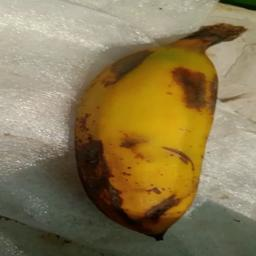Banana Semirotten: (71, 22, 249, 244)
